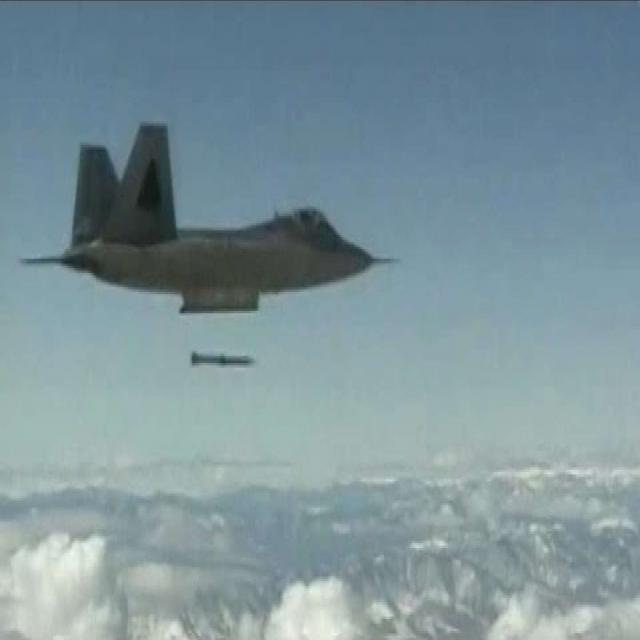Missile: (190, 339, 261, 373)
